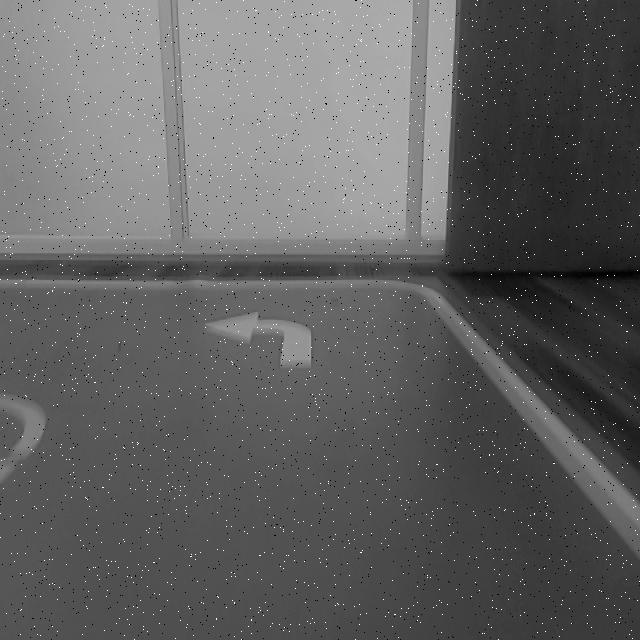left_lane: (0, 415, 48, 486)
right_lane: (429, 290, 640, 557)
